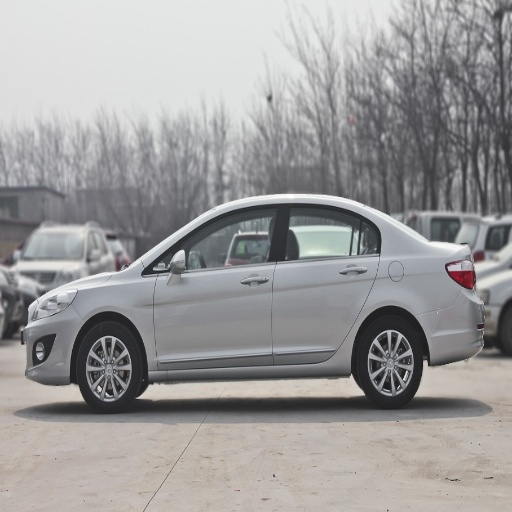back_bumper: (422, 285, 481, 363)
back_left_door: (271, 202, 380, 362)
front_left_door: (158, 203, 282, 368)
